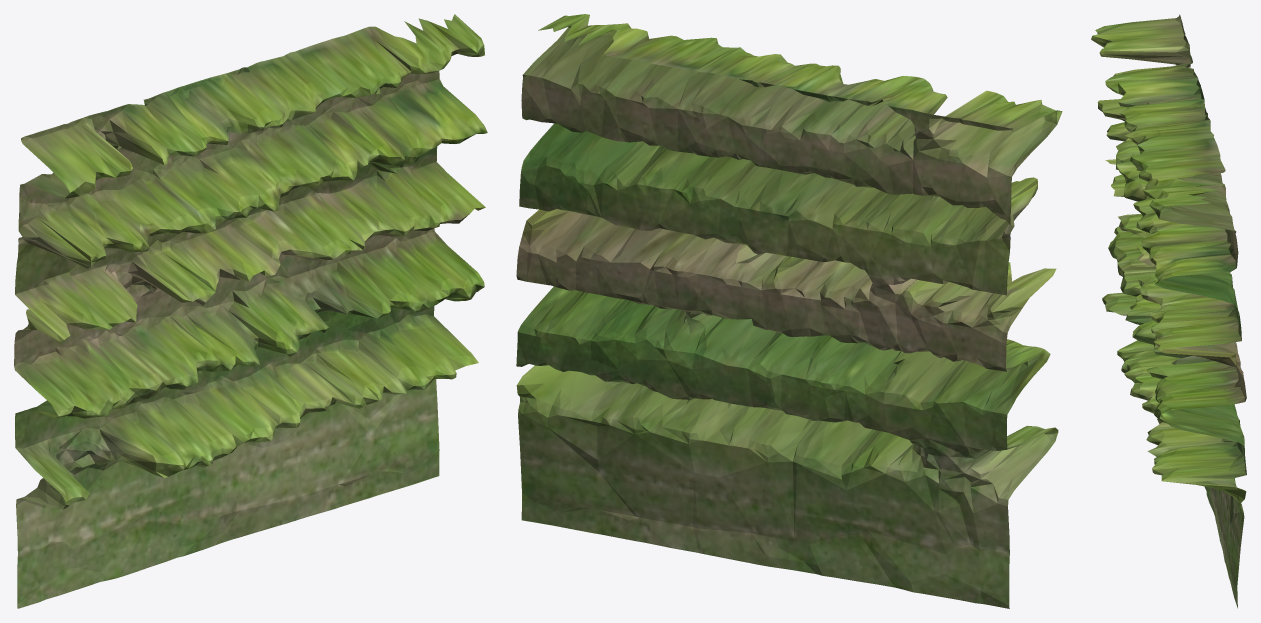
File: map_10_60.obj
3 renders of one model, left to right at view 1: azimuth 30°, elevation 25°; view 2: azimuth 150°, elevation 25°; view 3: azimuth 270°, elevation 25°, orthographic. The views are drawn at different scales.
Visible parts, largest first — view 1: grp1; view 2: grp1; view 3: grp1.
Boxes of the visible parts, x1,y1,x2,y2 form: grp1: (14,14,487,608); grp1: (516,14,1062,608); grp1: (1091,14,1246,608).
Size of the model in its own units: 10 by 10 by 3.48.
1 material, 1 textured.
